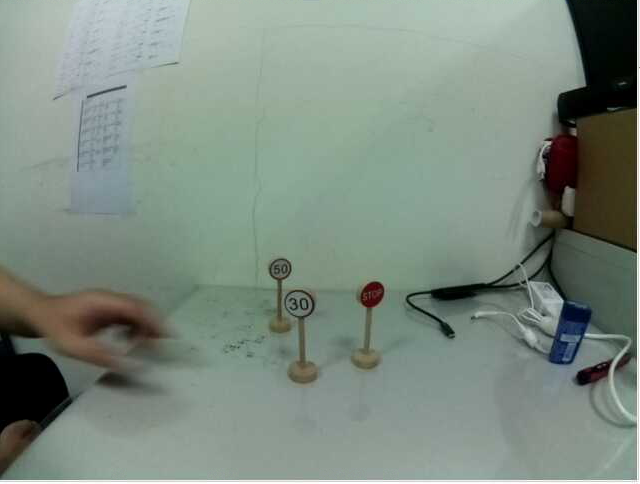Speed30: (281, 288, 316, 322)
Speed50: (266, 258, 294, 284)
Stop: (353, 281, 388, 314)
